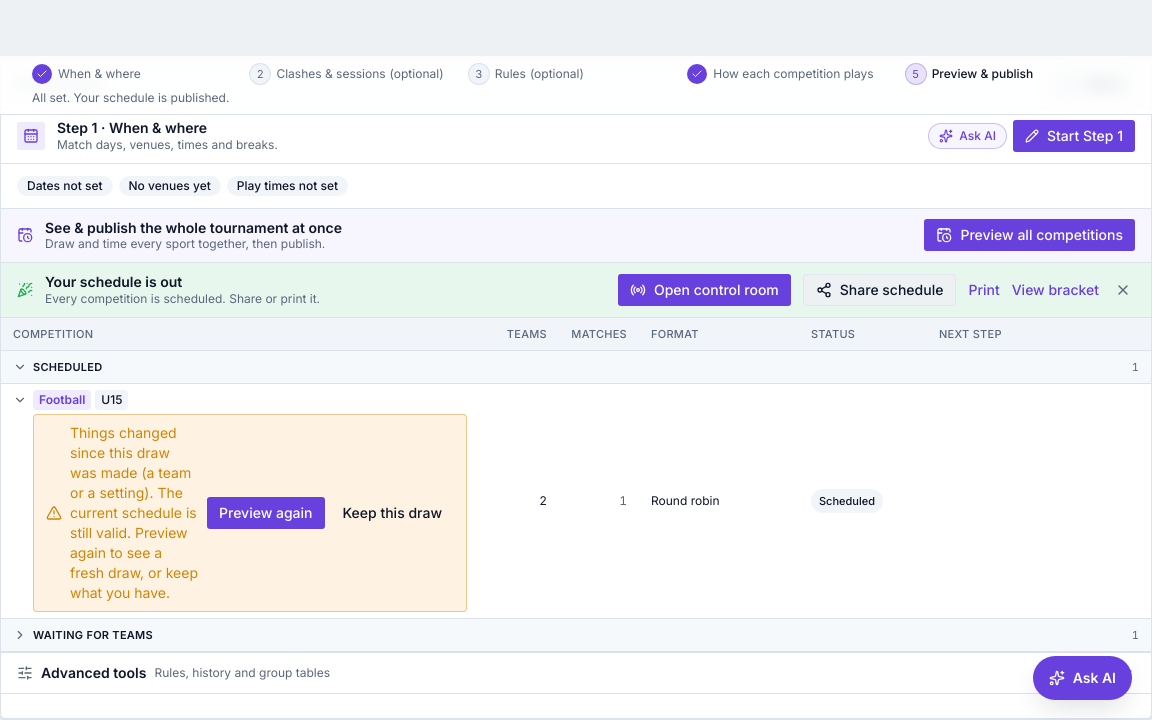
Test: FixtureSetupHub › Keep this draw dismisses the drift banner and restores the sentence
Click the button with test id "keep-draw": (392,512) [330, 496, 454, 528]
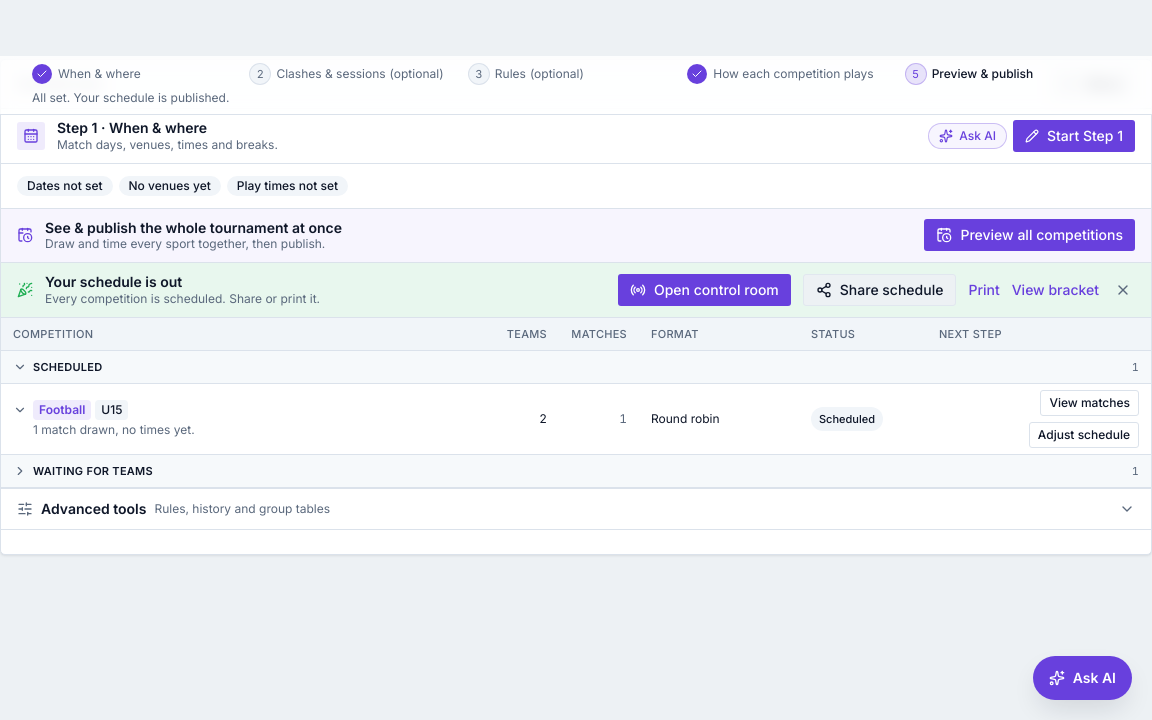
Result: the message with test id "inputs-changed-banner" is gone
Result: the text "1 match drawn, no times yet." is shown at [33, 422, 195, 436]
